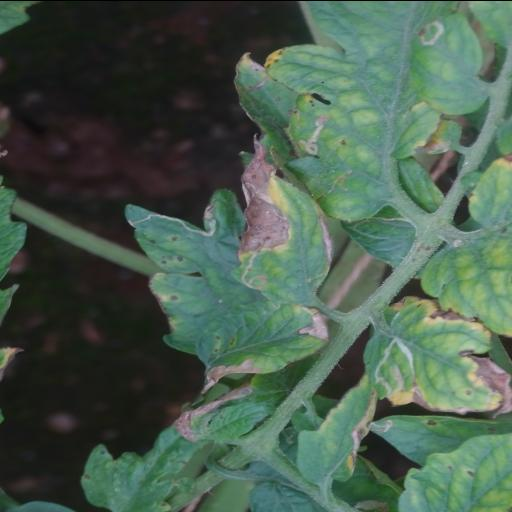Early Blight: (229, 131, 336, 309), (364, 298, 512, 418)
